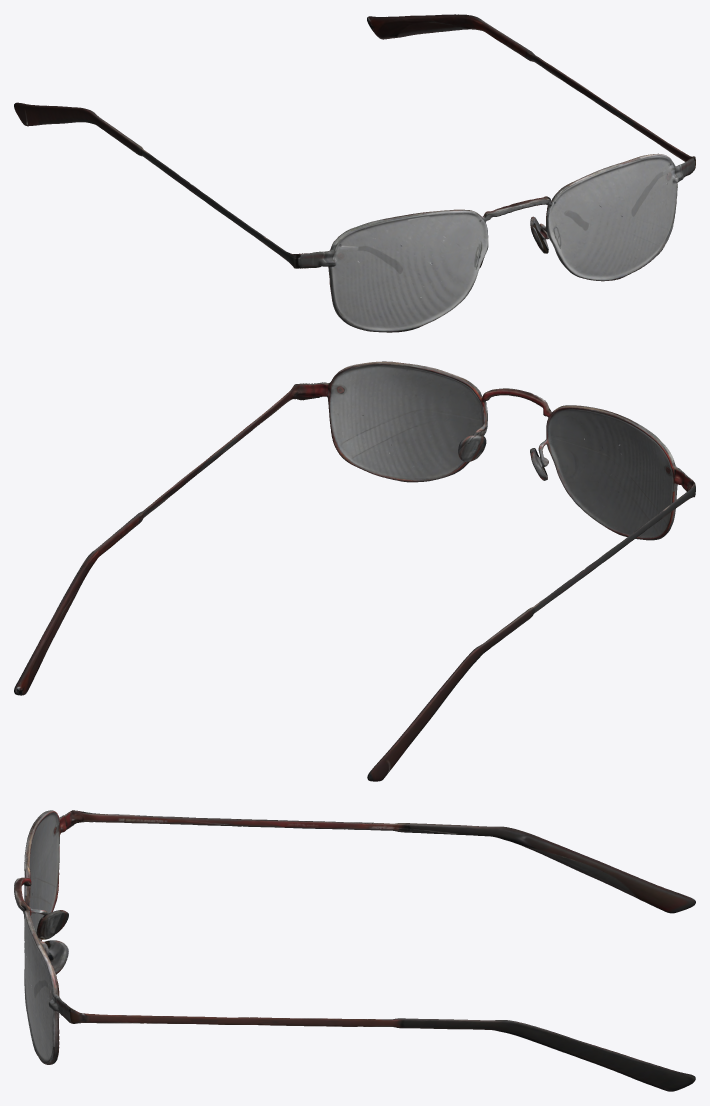
File: glasses.glb
3 views of the same model, one above another, from view 1: azimuth 30°, elevation 25°; view 2: azimuth 150°, elevation 25°; view 3: azimuth 270°, elevation 25° (orthographic). The views are drawn at different scales.
Visible parts, largest first — view 1: Mesh_0; view 2: Mesh_0; view 3: Mesh_0.
Part boxes in pixels (<box>): Mesh_0: <box>14,14,695,332</box>; Mesh_0: <box>14,361,695,781</box>; Mesh_0: <box>14,810,695,1091</box>.
Size of the model in its own units: 0.14 by 0.04 by 0.2.
Materials: 1 (1 with a texture image).
